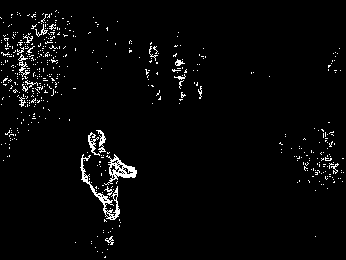person: (77, 127, 137, 219)
